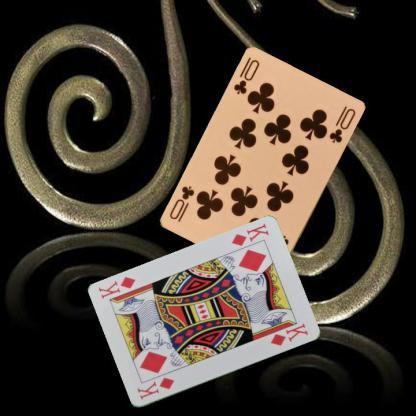10c: (231, 58, 261, 96)
Kd: (229, 221, 270, 248), (134, 375, 175, 401)
